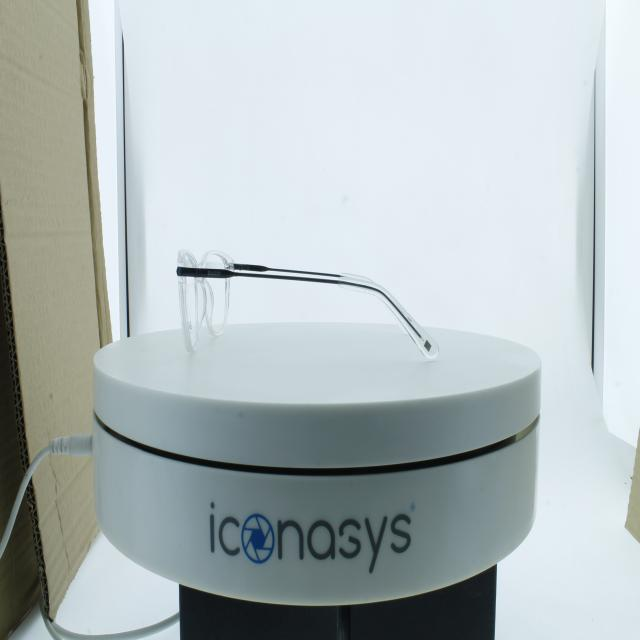Specs: (171, 238, 446, 375)
